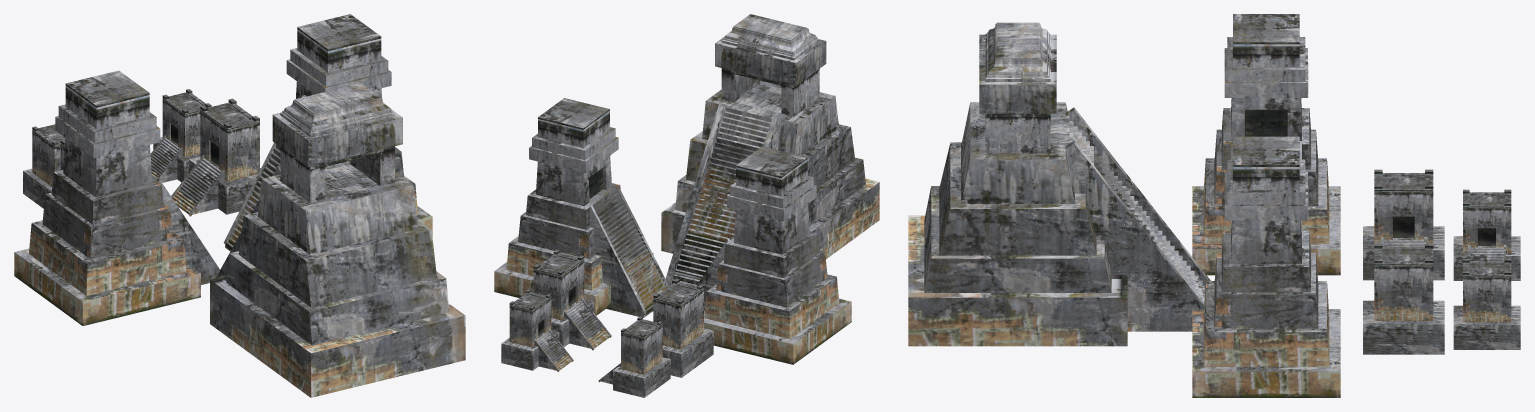
The model's file is Ruins.fbx.
The picture shows the model from 3 angles, left to right: view 1: azimuth 30°, elevation 25°; view 2: azimuth 150°, elevation 25°; view 3: azimuth 270°, elevation 25°; orthographic projection. The views are drawn at different scales.
Visible parts, largest first — view 1: Cube.003, Cube.002, Cube.001, Cube; view 2: Cube.002, Cube.003, Cube.001, Cube; view 3: Cube.003, Cube.002, Cube.001, Cube.
Part boxes in pixels (bbox=[...]): Cube.003: bbox=[210, 83, 465, 397]; Cube.002: bbox=[14, 14, 432, 325]; Cube.001: bbox=[60, 98, 260, 216]; Cube: bbox=[23, 89, 211, 208]; Cube.002: bbox=[494, 98, 851, 364]; Cube.003: bbox=[661, 14, 879, 286]; Cube.001: bbox=[533, 249, 713, 377]; Cube: bbox=[501, 289, 670, 397]; Cube.003: bbox=[908, 22, 1210, 346]; Cube.002: bbox=[1192, 14, 1340, 397]; Cube.001: bbox=[1363, 169, 1444, 354]; Cube: bbox=[1453, 189, 1520, 349].
Bounding box in the file's own units: 10179 × 6987 × 14194.
Materials: 1 (1 with a texture image).
